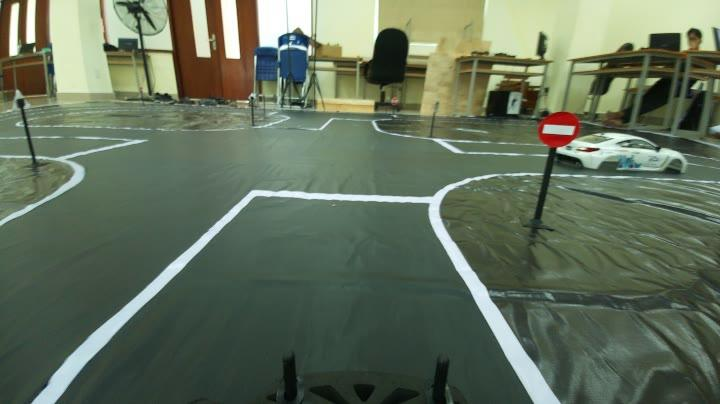no_entry: (533, 95, 583, 149)
